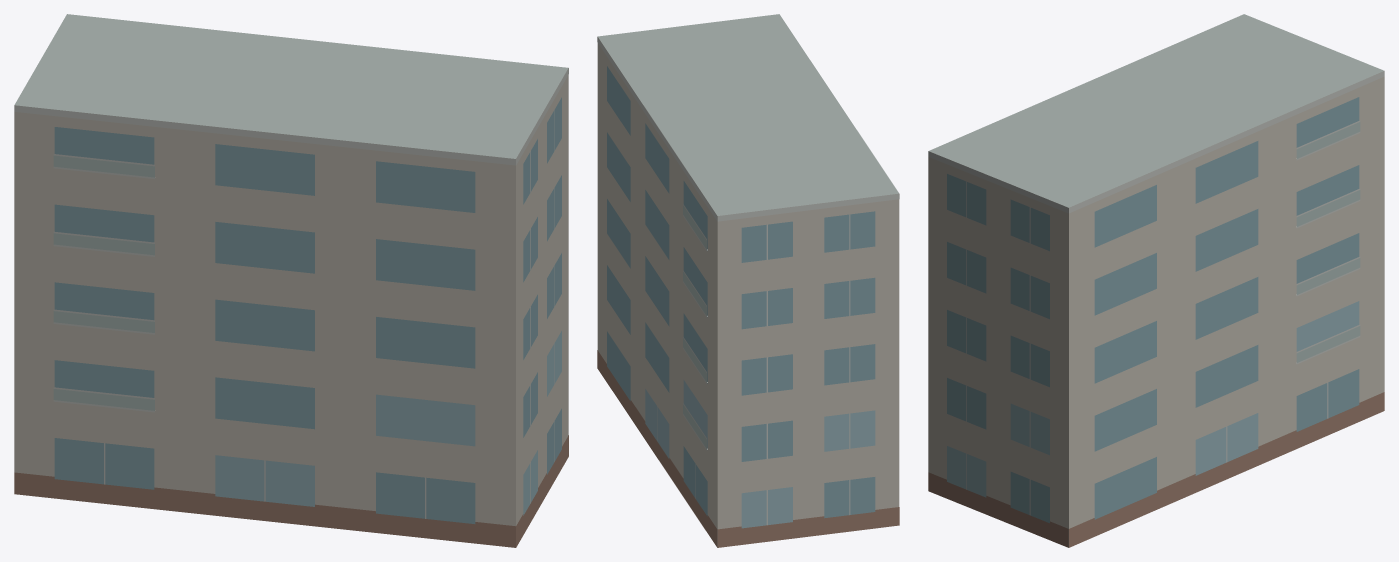
File: survey-upis-32886850.glb
3 renders of one model, left to right at view 1: azimuth 30°, elevation 25°; view 2: azimuth 150°, elevation 25°; view 3: azimuth 270°, elevation 25°, orthographic. The views are drawn at different scales.
Parts seen in each view (by area): view 1: survey-upis-32886850.tmp; view 2: survey-upis-32886850.tmp; view 3: survey-upis-32886850.tmp.
Part boxes in pixels (x1,y1,x2,y2): survey-upis-32886850.tmp: [14, 14, 568, 547]; survey-upis-32886850.tmp: [597, 14, 899, 547]; survey-upis-32886850.tmp: [928, 14, 1384, 547].
Bounding box in the file's own units: 17.73 × 14.5 × 17.63.
